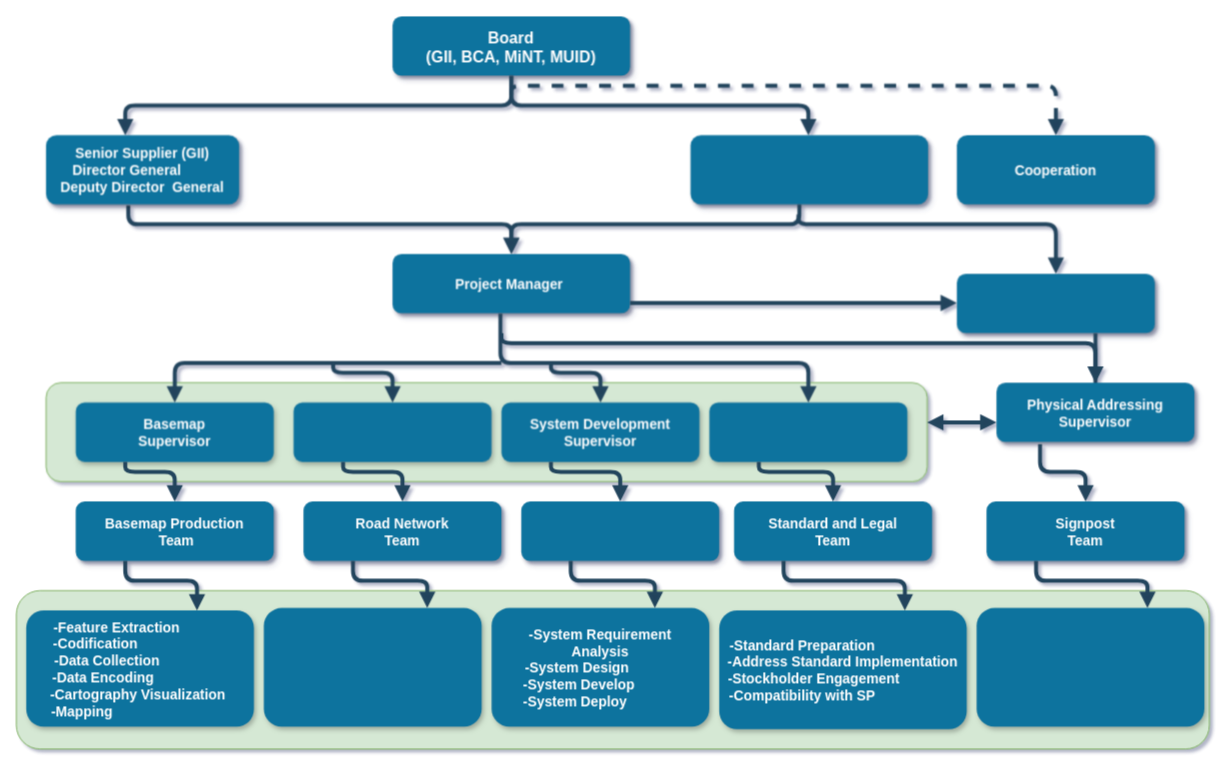
Image size: 1226x765. Some labels were removed from this diagram. Each missing label, with the centre of its shape:
-Designing -Sign Pole and Signpost Production -Installation -Field Verification: point (1091, 668)
-Rd Data Extraction -Network Analysis -Codification -Mapping: point (373, 668)
Assistant Project Manager: point (1056, 304)
Road Network Analysis Supervisor: point (393, 433)
Senior User (BCA) City Mayor Deputy Mayor: point (810, 171)
Standard and Legal Supervisor: point (809, 433)
System Development Team: point (621, 532)
